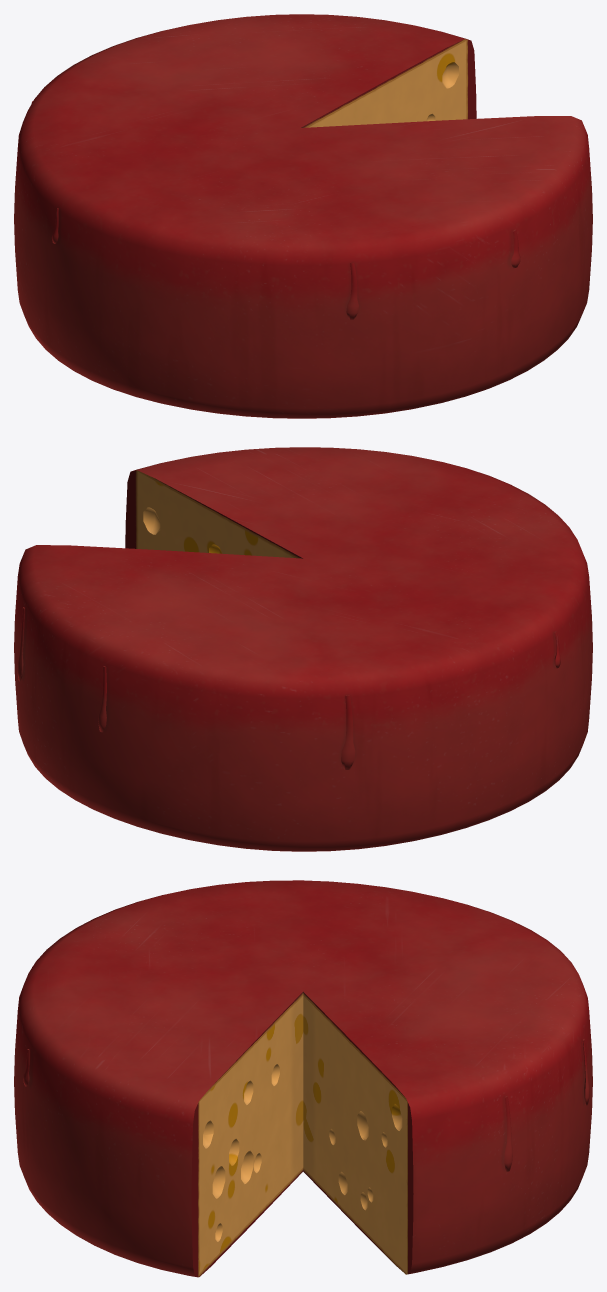
File: SM_FlagCheese_Cheddar.fbx
3 views of the same model, one above another, from view 1: azimuth 30°, elevation 25°; view 2: azimuth 150°, elevation 25°; view 3: azimuth 270°, elevation 25° (orthographic).
Visible parts, largest first — view 1: SM_FlagCheese_Cheddar; view 2: SM_FlagCheese_Cheddar; view 3: SM_FlagCheese_Cheddar.
Boxes of the visible parts, box(x1,y1,x2,y2) form: SM_FlagCheese_Cheddar: box(14, 14, 592, 418); SM_FlagCheese_Cheddar: box(14, 447, 592, 851); SM_FlagCheese_Cheddar: box(14, 880, 592, 1277).
Size of what is drawn, in the model's own units: 117 by 42 by 121.
Materials: 1 (1 with a texture image).
